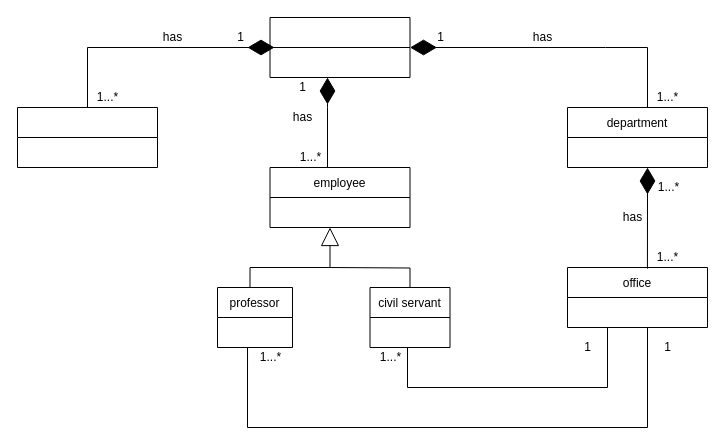
Image size: 725x446. Some labels were removed from this diagram. The centre of each missing label's shape, as x and y in pixels:
classroom: the point at 87,137
university: the point at 339,47
